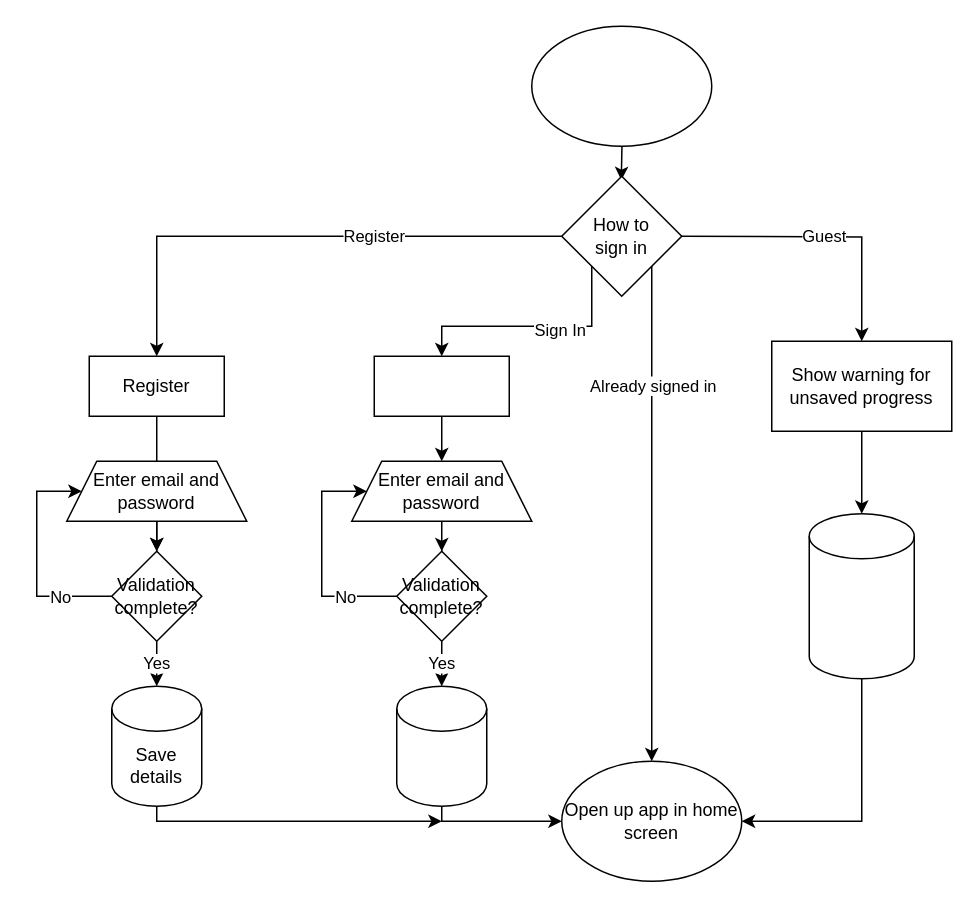
Image size: 978x908. Some labels were removed from this diagram. Each missing label, with the centre of its shape:
"Check for matching credentials" belongs at point 441,745.
"Saves data as anonymous guest" belongs at point 861,595.
"Sign up" belongs at point 441,385.
"Start up app for the first time" belongs at point 621,85.
